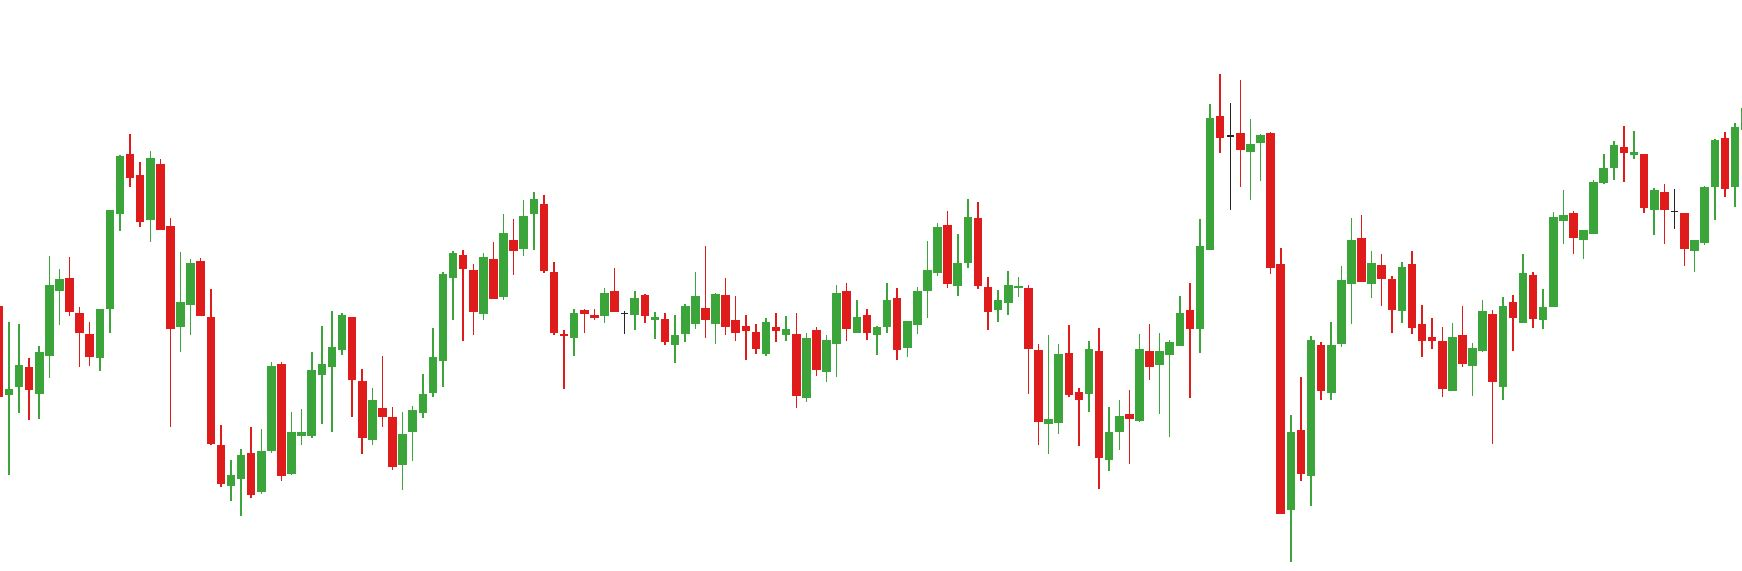buy: (1092, 293, 1299, 571), (1438, 315, 1511, 447)
